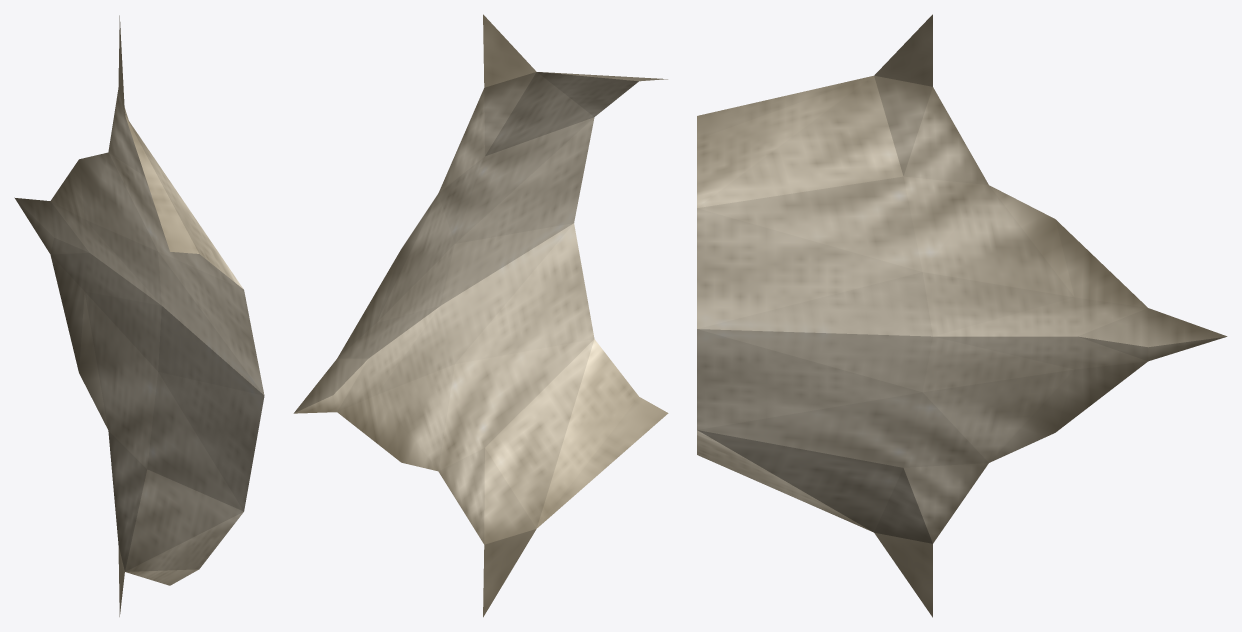
The picture shows the model from 3 angles, left to right: view 1: azimuth 30°, elevation 25°; view 2: azimuth 150°, elevation 25°; view 3: azimuth 270°, elevation 25°; orthographic projection.
Visible parts, largest first — view 1: B_0018_2a_0; view 2: B_0018_2a_0; view 3: B_0018_2a_0.
Boxes of the visible parts, x1=… form: B_0018_2a_0: x1=14, y1=15, x2=264, y2=616; B_0018_2a_0: x1=293, y1=14, x2=668, y2=617; B_0018_2a_0: x1=697, y1=14, x2=1227, y2=617.
Size of the model in its own units: 0.774 by 4.07 by 3.24.
1 material, 1 textured.
